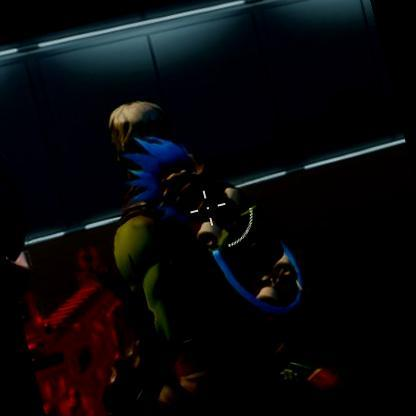person: (97, 92, 319, 416)
